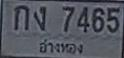4: (76, 6, 88, 32)
5: (106, 7, 119, 32)
6: (91, 7, 104, 32)
7: (62, 6, 74, 31)
A01: (13, 4, 28, 30)
A07: (33, 6, 45, 29)
ATG: (37, 37, 85, 56)
